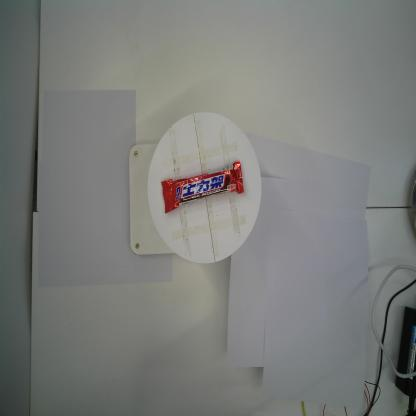Chocolate: (159, 159, 245, 218)
